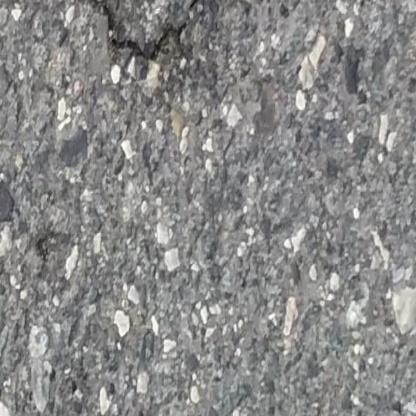Cracks: (57, 0, 244, 69)
